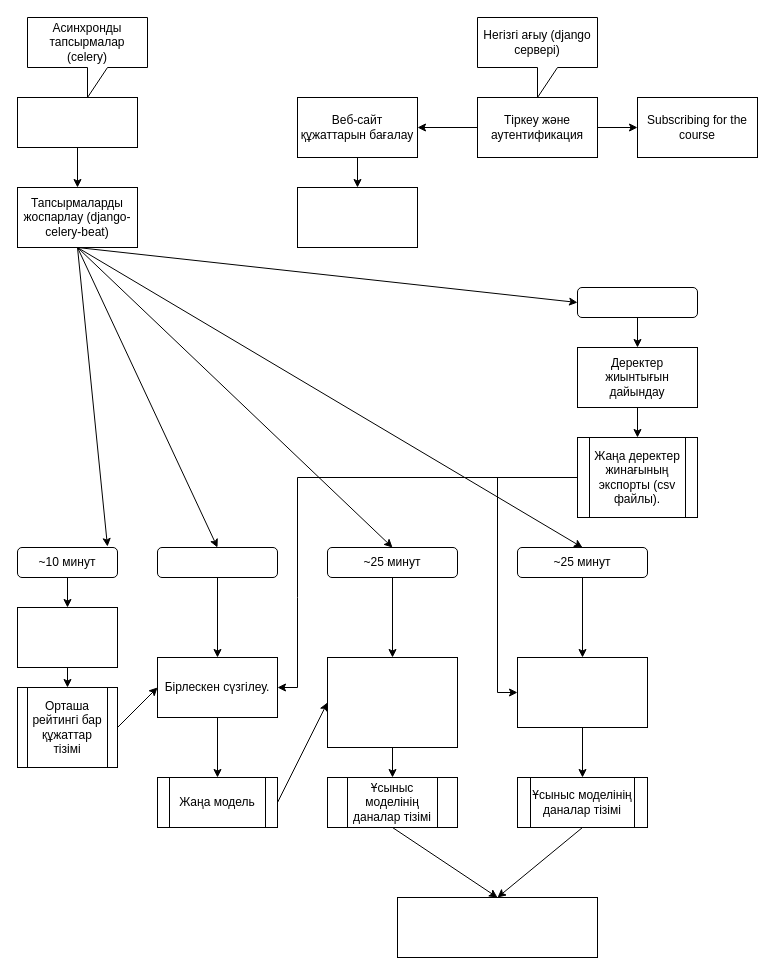
This 775x975 diagram has some shape labels left out. The shapes that lost their labels are listed below. From the top down, each one's box as (x1, y1, x2, y2) in pixels, then its label:
(16, 96, 138, 148): Параллель worker
(296, 186, 418, 248): Құжатты бағалау
(576, 286, 698, 318): ~15 минут
(156, 546, 278, 578): ~20 минут
(16, 606, 118, 668): Әр құжат үшін орташа рейтинг еспетеу
(326, 656, 458, 748): Әр пайдаланушыға болжам жасау және жаңа ұсыныс үлгілерін жасау
(516, 656, 648, 728): Мазмұнға негізделген оқыту және болжам жасау
(396, 896, 598, 958): Ұсыныстарға негізделген рекомендация тізімі
